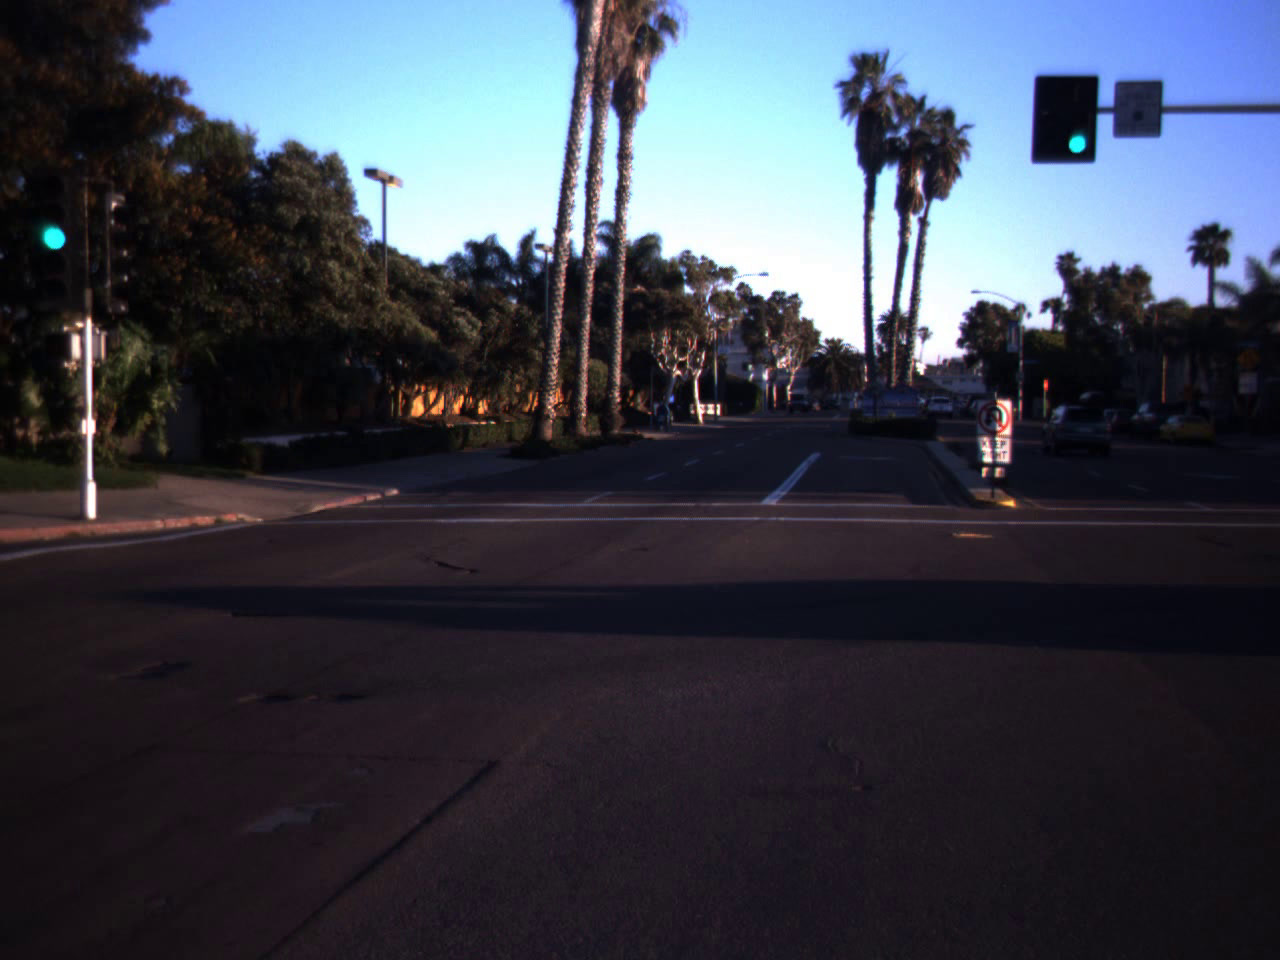go: (24, 154, 84, 259), (1055, 80, 1100, 160)
